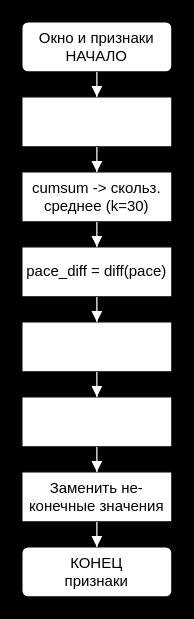
The diagram is 194 pixels wide and 619 high, and some of its shapes have lost their labels. Each missing label, with the box of its shape:
cal_per_min = cal/pace: (21, 396, 172, 447)
ratio = cal/dist: (21, 96, 172, 147)
speed_kmh = dist/(pace/60): (21, 321, 172, 372)
